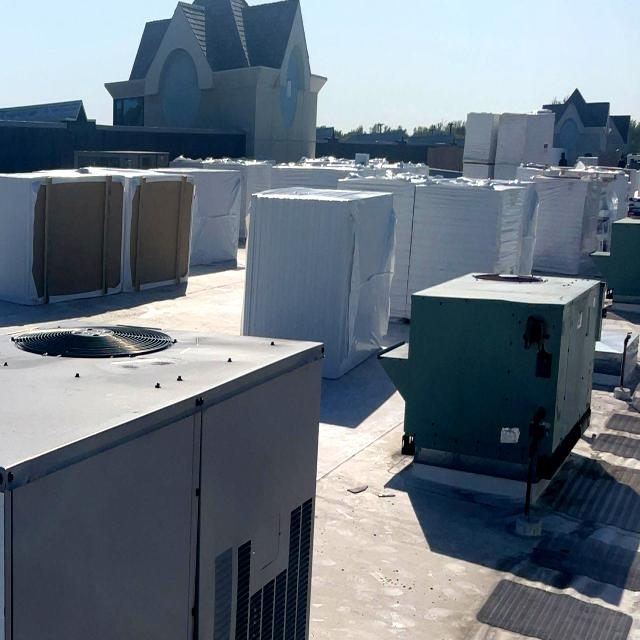RTU: (0, 308, 327, 640), (390, 251, 607, 526), (586, 198, 640, 320)
